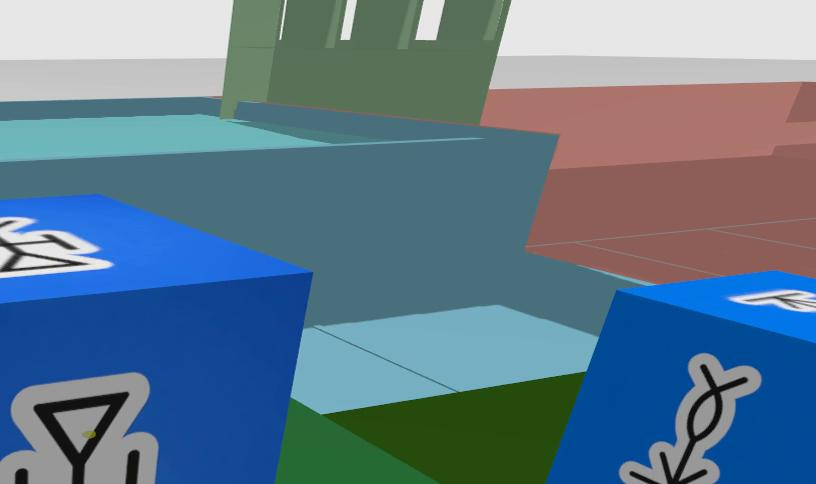KFS_REAL: (0, 195, 311, 483), (545, 272, 815, 483), (618, 353, 760, 483), (0, 373, 157, 483), (0, 217, 112, 278), (728, 289, 815, 312)
